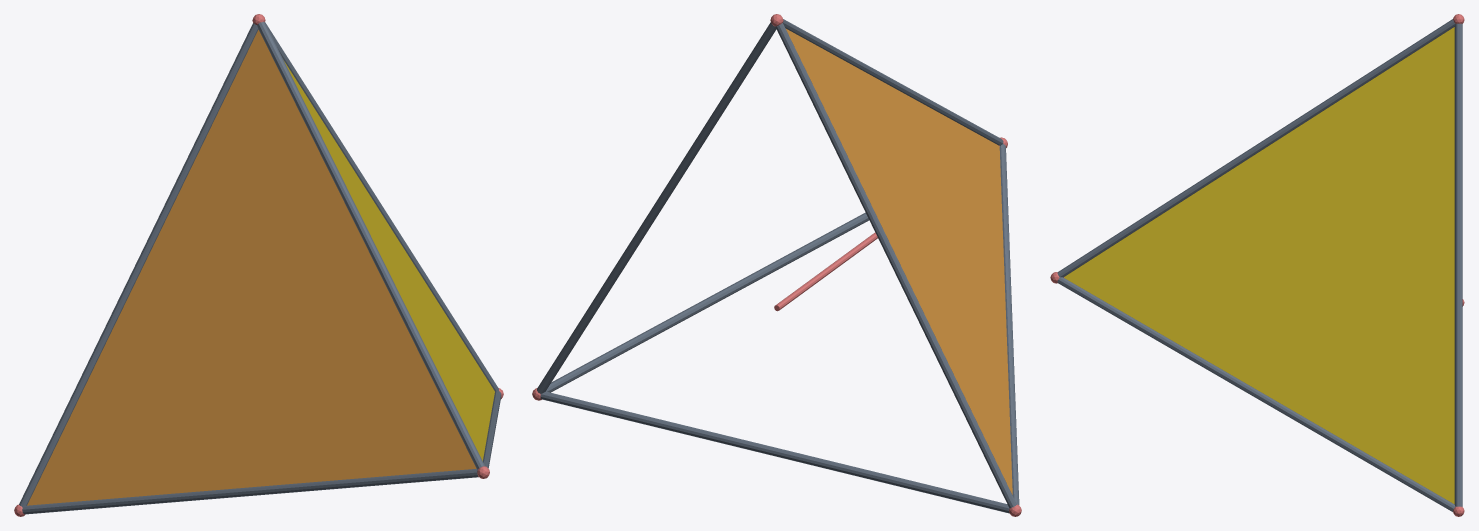
The model's file is tudien.glb.
The picture shows the model from 3 angles, left to right: view 1: azimuth 30°, elevation 25°; view 2: azimuth 150°, elevation 25°; view 3: azimuth 270°, elevation 25°; orthographic projection. The views are drawn at different scales.
Parts seen in each view (by area): view 1: world; view 2: world; view 3: world.
Part boxes in pixels (bbox=[...]): world: bbox=[14, 14, 503, 516]; world: bbox=[532, 14, 1021, 516]; world: bbox=[1050, 14, 1464, 516].
Bounding box in the file's own units: 1.02 × 0.89 × 0.84.
